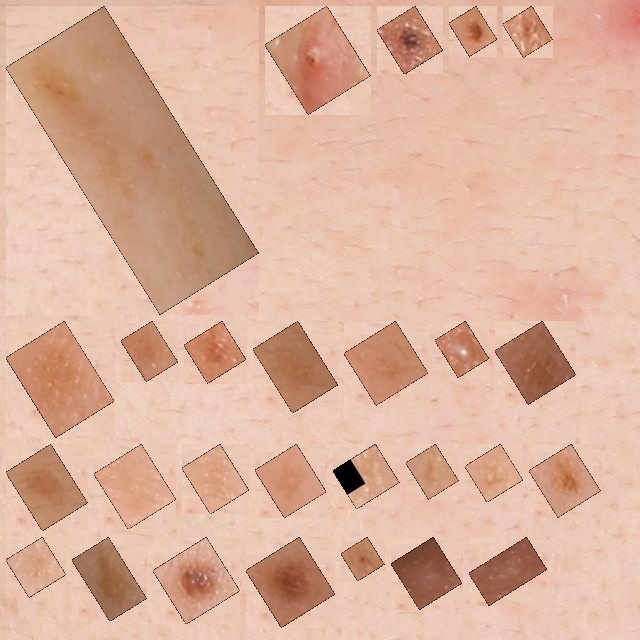hypertrophic_scar: (480, 548, 536, 594), (402, 548, 451, 598)
melasma: (17, 17, 248, 303), (17, 332, 103, 426), (264, 332, 327, 402), (355, 332, 417, 394), (17, 455, 76, 520), (105, 455, 165, 518), (506, 332, 565, 393), (83, 548, 136, 610), (540, 455, 590, 506), (266, 455, 315, 506), (193, 455, 238, 503), (344, 455, 388, 498), (17, 548, 55, 586), (132, 332, 167, 370), (476, 455, 512, 491), (417, 455, 447, 488)
nevus: (257, 548, 324, 616), (164, 548, 229, 613), (388, 17, 432, 63), (514, 17, 541, 46), (460, 17, 486, 45), (352, 548, 373, 570)
pustule: (276, 17, 359, 103), (446, 332, 478, 366)
